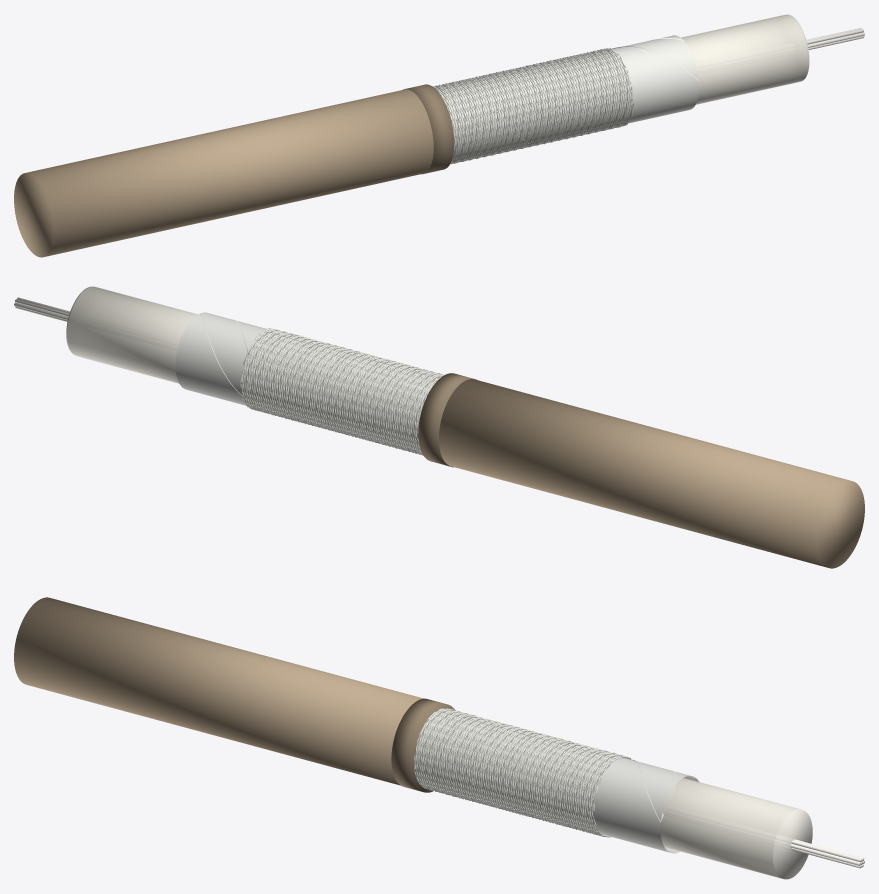
Rendered from rf-gorephaseflex024.glb.
3 renders of one model, top to bottom at view 1: azimuth 30°, elevation 25°; view 2: azimuth 150°, elevation 25°; view 3: azimuth 330°, elevation 25°, orthographic. The views are drawn at different scales.
Visible parts, largest first — view 1: matte black pvc jacket body, duobond foil sleeve, gas injected foam dielectric, smooth dielectric skin, jacket cut lip, braid left hand carrier 08, braid left hand carrier 09, braid left hand carrier 11, braid left hand carrier 06, braid left hand carrier 05, braid left hand carrier 12, braid left hand carrier 14 (+21 smaller); view 2: matte black pvc jacket body, duobond foil sleeve, gas injected foam dielectric, smooth dielectric skin, jacket cut lip, braid left hand carrier 05, braid left hand carrier 03, braid left hand carrier 02, braid left hand carrier 06, braid left hand carrier 14, braid left hand carrier 08, braid left hand carrier 09 (+21 smaller); view 3: matte black pvc jacket body, duobond foil sleeve, gas injected foam dielectric, smooth dielectric skin, jacket cut lip, braid left hand carrier 09, braid left hand carrier 08, braid left hand carrier 06, braid left hand carrier 05, braid left hand carrier 11, braid left hand carrier 12, braid left hand carrier 03 (+21 smaller).
Boxes of the visible parts, box(x1,y1,x2,y2) form: matte black pvc jacket body: box(14, 89, 433, 257); duobond foil sleeve: box(439, 35, 698, 161); gas injected foam dielectric: box(682, 14, 809, 104); smooth dielectric skin: box(681, 14, 807, 104); jacket cut lip: box(403, 84, 454, 174); braid left hand carrier 08: box(442, 48, 623, 161); braid left hand carrier 09: box(445, 48, 625, 163); braid left hand carrier 11: box(450, 53, 630, 164); braid left hand carrier 06: box(439, 49, 618, 159); braid left hand carrier 05: box(436, 50, 616, 160); braid left hand carrier 12: box(452, 53, 632, 163); braid left hand carrier 14: box(457, 52, 631, 161); matte black pvc jacket body: box(439, 379, 864, 568); duobond foil sleeve: box(175, 312, 438, 447); gas injected foam dielectric: box(66, 286, 197, 383); smooth dielectric skin: box(67, 286, 197, 383); jacket cut lip: box(418, 373, 476, 467); braid left hand carrier 05: box(241, 331, 444, 452); braid left hand carrier 03: box(246, 332, 439, 452); braid left hand carrier 02: box(248, 333, 435, 453); braid left hand carrier 06: box(240, 331, 444, 450); braid left hand carrier 14: box(253, 334, 427, 454); braid left hand carrier 08: box(249, 329, 441, 450); braid left hand carrier 09: box(258, 329, 436, 449); matte black pvc jacket body: box(14, 597, 423, 785); duobond foil sleeve: box(415, 712, 698, 853); gas injected foam dielectric: box(660, 778, 812, 879); smooth dielectric skin: box(661, 778, 801, 878); jacket cut lip: box(391, 698, 455, 792); braid left hand carrier 09: box(422, 713, 620, 833); braid left hand carrier 08: box(420, 712, 629, 831); braid left hand carrier 06: box(415, 711, 626, 831); braid left hand carrier 05: box(414, 710, 618, 830); braid left hand carrier 11: box(427, 714, 601, 833); braid left hand carrier 12: box(429, 715, 603, 835); braid left hand carrier 03: box(419, 709, 615, 829).
Size of the model in its own units: 6.51 by 0.606 by 0.7994.
